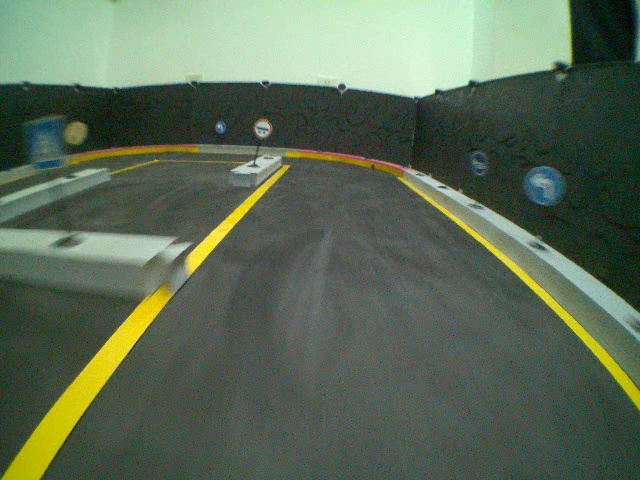Check: (253, 116, 272, 140)
horn: (469, 149, 488, 177)
turn: (522, 166, 564, 205), (213, 119, 227, 135)
